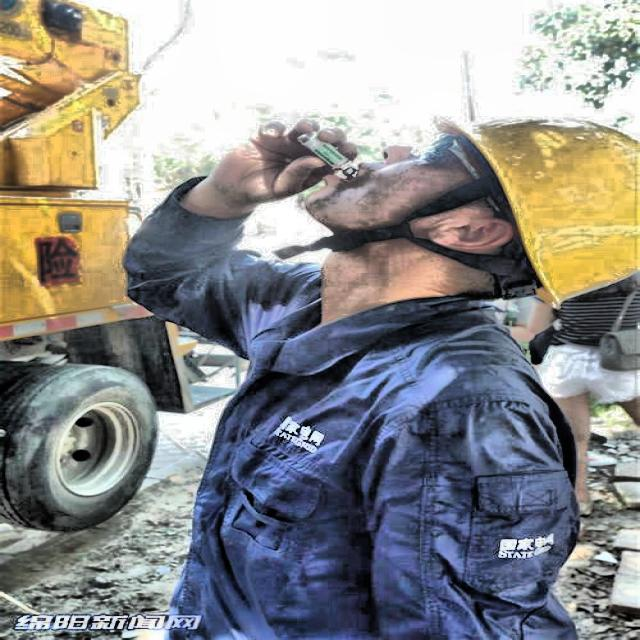helmet: (297, 117, 639, 321)
